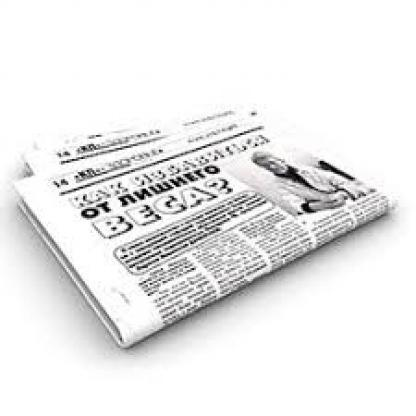trash: (15, 110, 389, 347)
